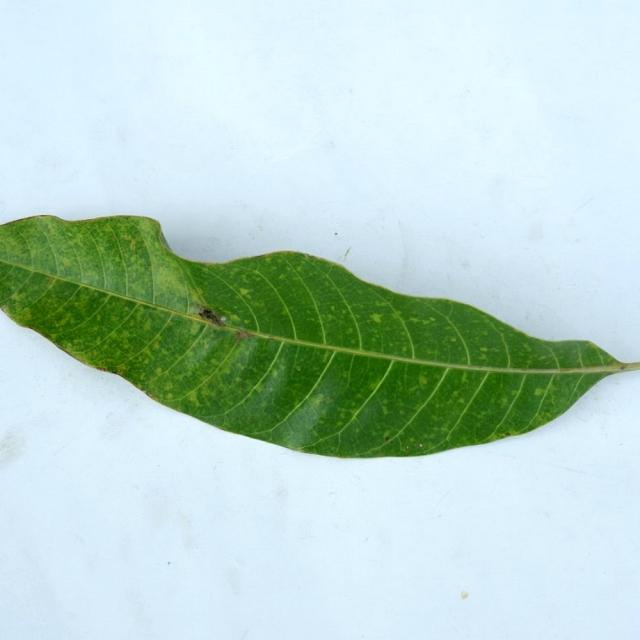Mango: (0, 216, 636, 456)
Powdery_Mildew: (39, 293, 107, 340), (11, 297, 48, 327), (8, 281, 43, 310), (335, 402, 365, 424), (234, 329, 259, 342), (368, 314, 389, 326), (410, 317, 436, 326), (189, 321, 204, 335), (46, 274, 61, 288), (322, 313, 340, 324), (186, 391, 200, 403), (141, 319, 153, 332), (369, 380, 380, 392), (312, 396, 324, 407), (334, 419, 346, 429), (418, 374, 428, 385), (317, 418, 327, 428), (61, 257, 72, 266), (337, 409, 349, 417), (534, 388, 545, 396), (114, 367, 125, 375), (239, 288, 250, 295), (381, 406, 389, 415), (500, 398, 509, 406), (164, 381, 173, 389), (278, 275, 287, 283), (453, 391, 461, 399), (347, 328, 355, 336), (137, 382, 145, 390), (129, 240, 136, 249), (164, 392, 173, 399), (121, 299, 130, 306), (234, 377, 242, 384), (478, 354, 487, 360), (458, 398, 466, 404), (409, 437, 417, 443), (479, 347, 488, 352), (97, 367, 106, 372), (295, 366, 302, 372), (145, 390, 151, 397), (401, 347, 407, 353), (450, 337, 457, 342), (429, 317, 436, 322), (619, 365, 626, 370), (504, 432, 511, 437), (330, 306, 336, 311), (341, 311, 347, 316), (384, 436, 389, 441), (419, 444, 423, 448), (405, 446, 409, 450)
